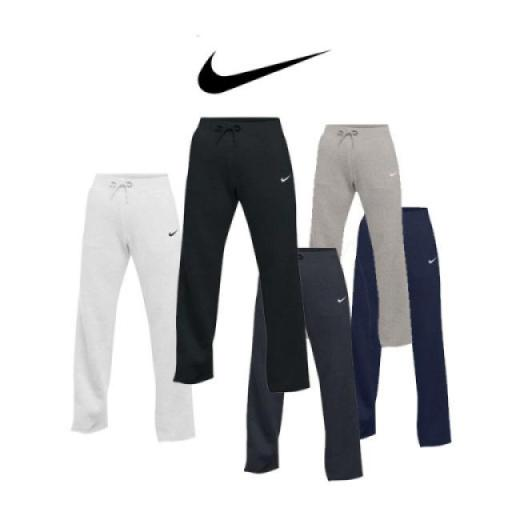Nike: (180, 42, 338, 98)
